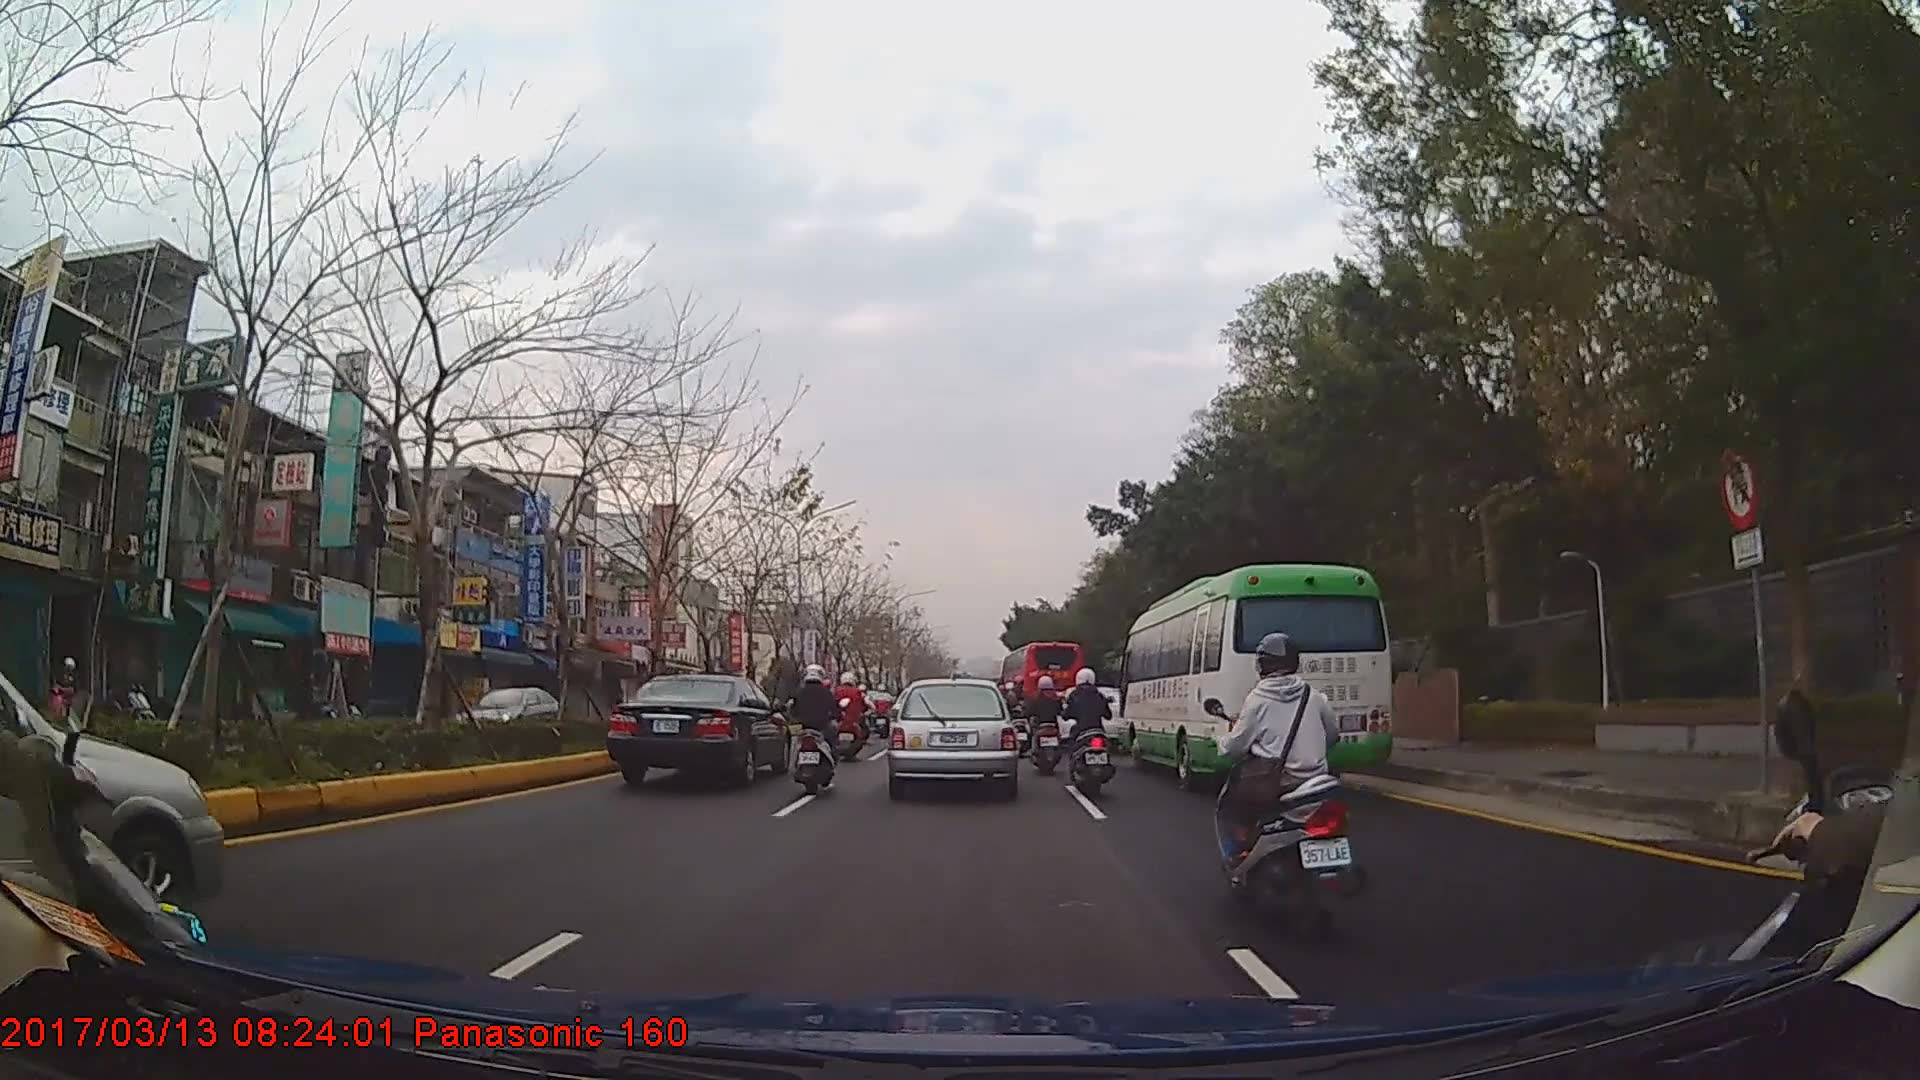rider: (1, 503, 206, 1027), (1211, 635, 1364, 938), (790, 664, 849, 799), (1063, 669, 1116, 798), (1027, 674, 1067, 776), (834, 674, 869, 761), (1008, 676, 1032, 756), (851, 686, 877, 743), (873, 683, 896, 728)
vehicle: (1118, 562, 1394, 797), (603, 673, 792, 787), (886, 678, 1017, 798), (999, 638, 1084, 734), (452, 684, 564, 747)
